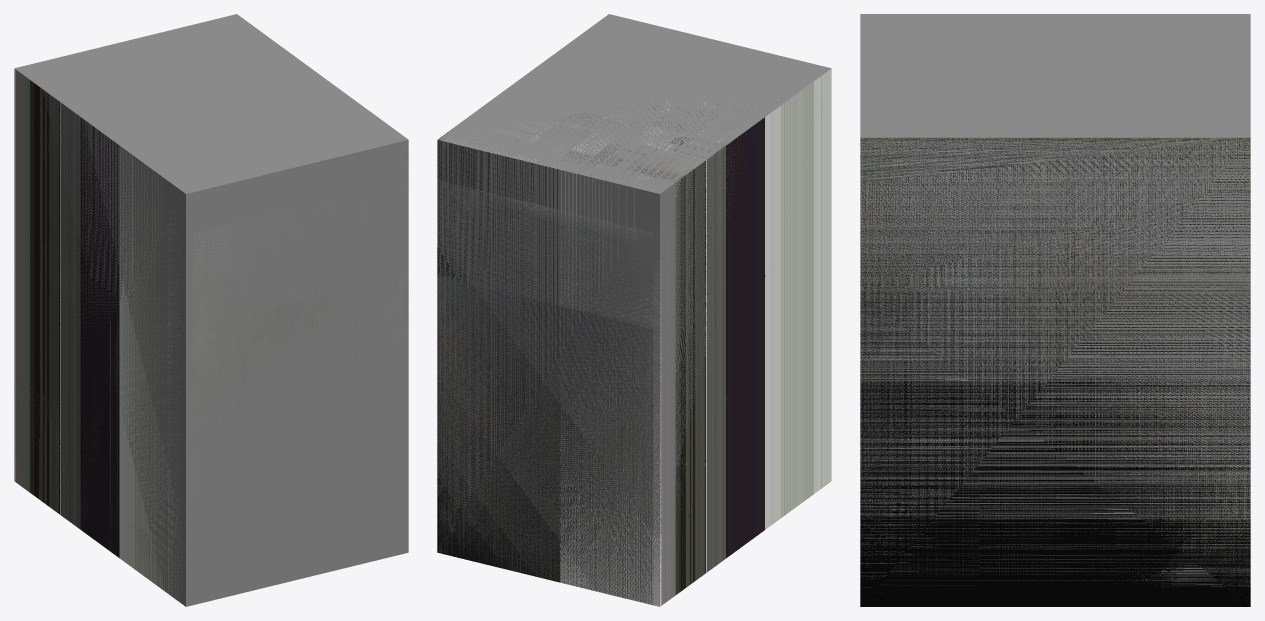
File: counter_top_01.FBX
3 renders of one model, left to right at view 1: azimuth 30°, elevation 25°; view 2: azimuth 150°, elevation 25°; view 3: azimuth 270°, elevation 25°, orthographic. The views are drawn at different scales.
Visible parts, largest first — view 1: bounds, colbox-1, counter_top_one100; view 2: bounds, colbox-1, counter_top_one100; view 3: bounds, colbox-1, counter_top_one100.
Boxes of the visible parts, box(x1,y1,x2,y2) form: bounds: box(14, 14, 408, 606); colbox-1: box(14, 68, 184, 602); counter_top_one100: box(192, 141, 408, 545); bounds: box(437, 14, 831, 602); colbox-1: box(437, 68, 831, 606); counter_top_one100: box(437, 132, 653, 604); bounds: box(860, 14, 1250, 587); colbox-1: box(860, 137, 1250, 606); counter_top_one100: box(860, 137, 1250, 595).
Size of the model in its own units: 64.81 by 115 by 86.59.
